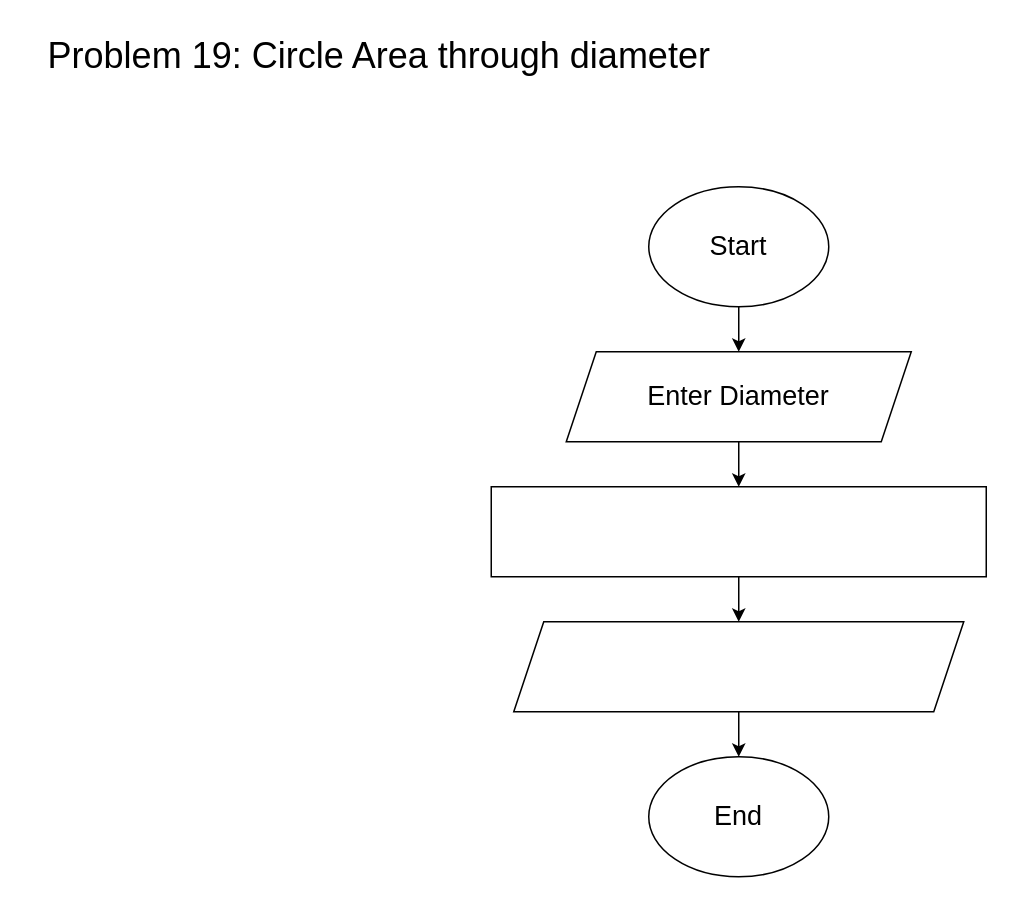
This 1013x903 diagram has some shape labels left out. Here are the shapes that lost their labels. From the top down, the box of each, then its label:
(490, 485, 986, 577): PI = 3.14 Area = (Pi*(Diameter * Diameter)) /4
(512, 620, 964, 712): Print Diameter
